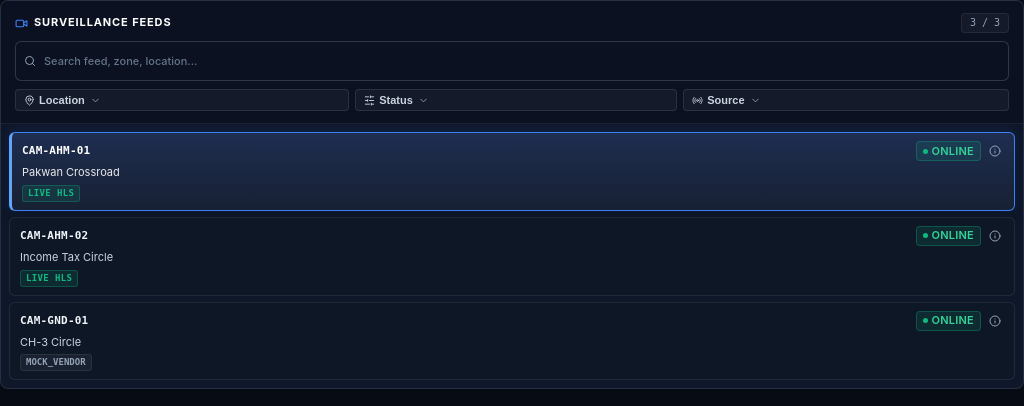
Live CCTV Monitoring Page & Components › filters cameras by status in CameraSelector
The width and height of the screenshot is (1024, 406).
Expected: the button with test id "camera-item-CAM-AHM-01" is shown, x1=9 y1=132 x2=1015 y2=211
Expected: the button with test id "camera-item-CAM-AHM-02" is shown, x1=9 y1=217 x2=1015 y2=296
Note: Search filter
Type "Pakwan" into the field with test id "camera-search-input".
click(512, 61); type("Pakwan")  # box x1=15 y1=41 x2=1009 y2=81
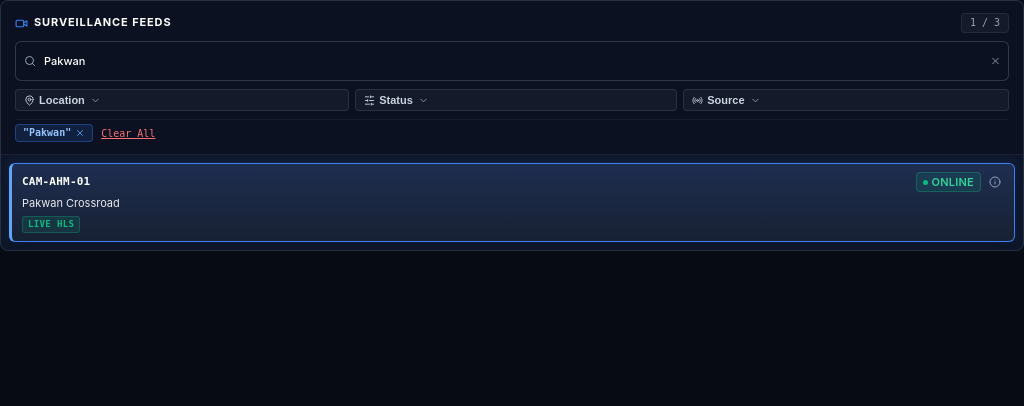
Expected: the button with test id "camera-item-CAM-AHM-01" is shown, x1=9 y1=163 x2=1015 y2=242
Expected: the button with test id "camera-item-CAM-AHM-02" is gone
